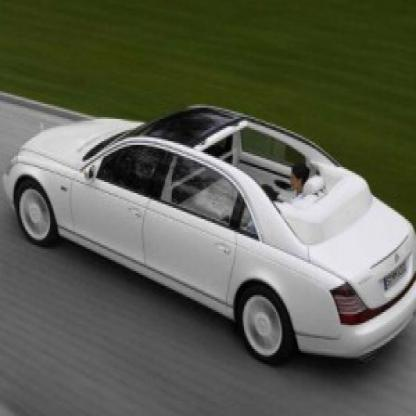car: (3, 89, 414, 377)
